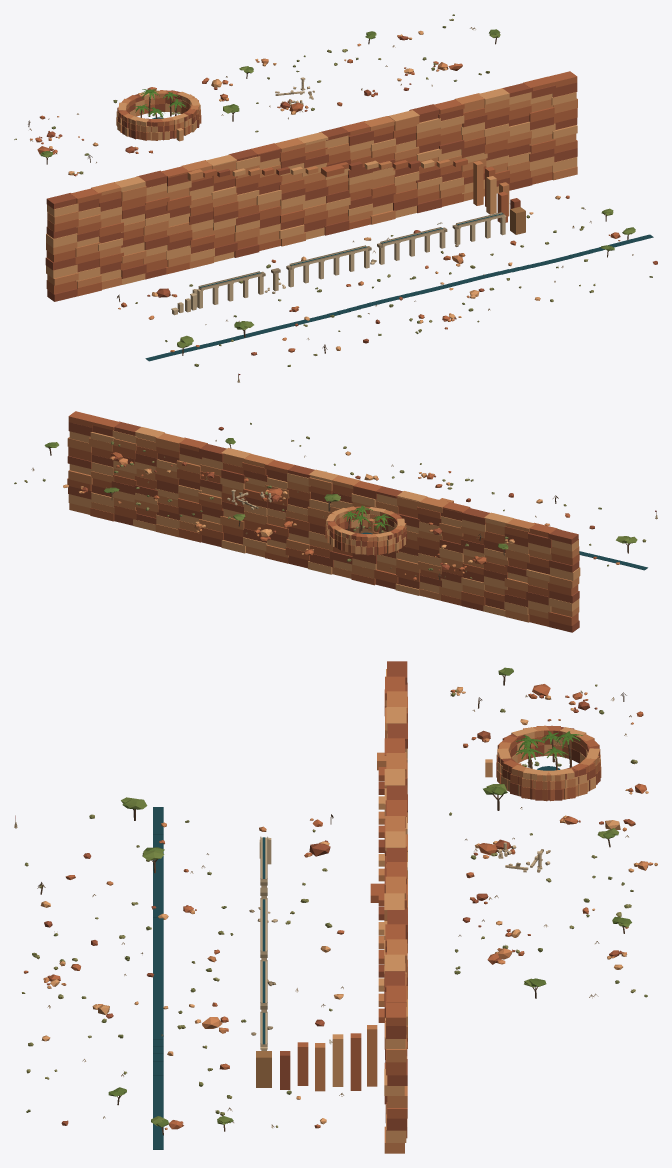
Rendered from town.glb.
The picture shows the model from 3 angles, top to bottom: view 1: azimuth 30°, elevation 25°; view 2: azimuth 150°, elevation 25°; view 3: azimuth 270°, elevation 25°; orthographic projection. The views are drawn at different scales.
Visible parts, largest first — view 1: Town; view 2: Town; view 3: Town.
Boxes of the visible parts, x1,y1,x2,y2 form: Town: (14,14,657,382); Town: (14,411,657,632); Town: (14,661,657,1153).
Bounding box in the file's own units: 208 × 47.87 × 158.
